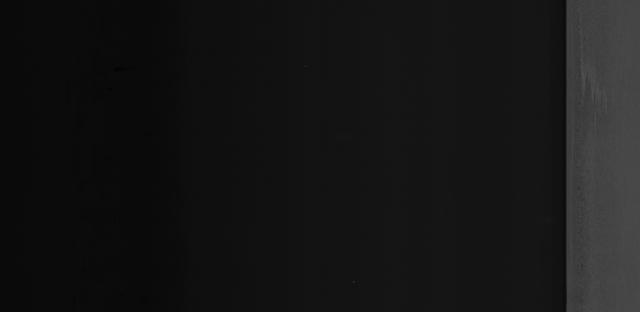silk_spot: (576, 41, 611, 117)
